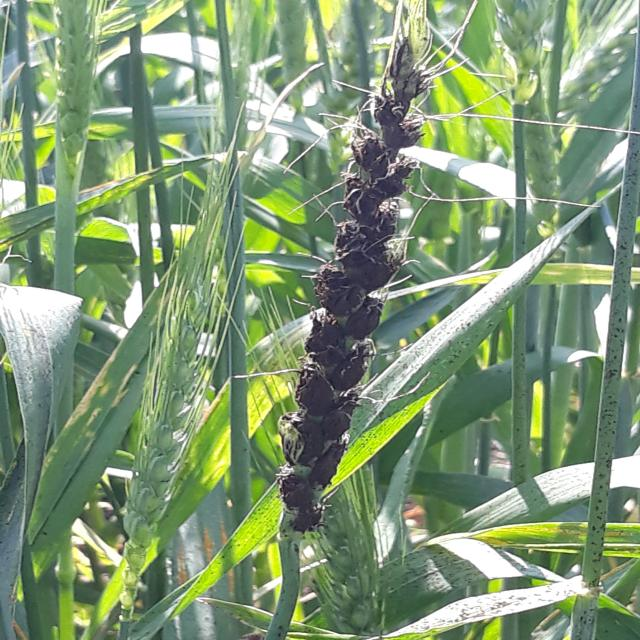loose_charred: (246, 11, 444, 621), (558, 85, 640, 640), (380, 584, 602, 628)
yellow_rust: (169, 524, 231, 586)
